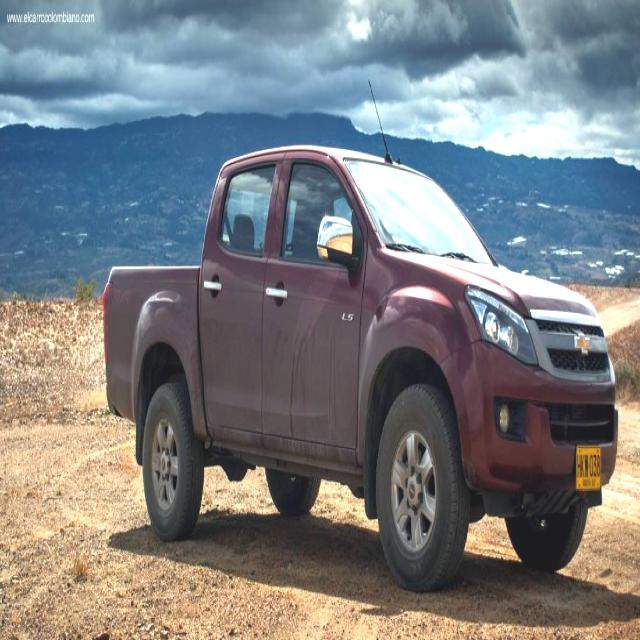CMT: (95, 137, 613, 588)
